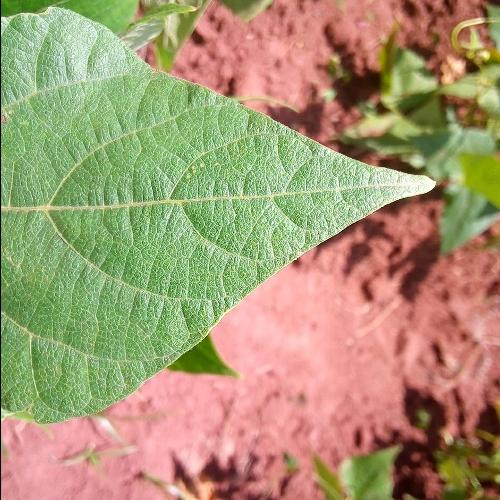sehat: (0, 69, 233, 366)
